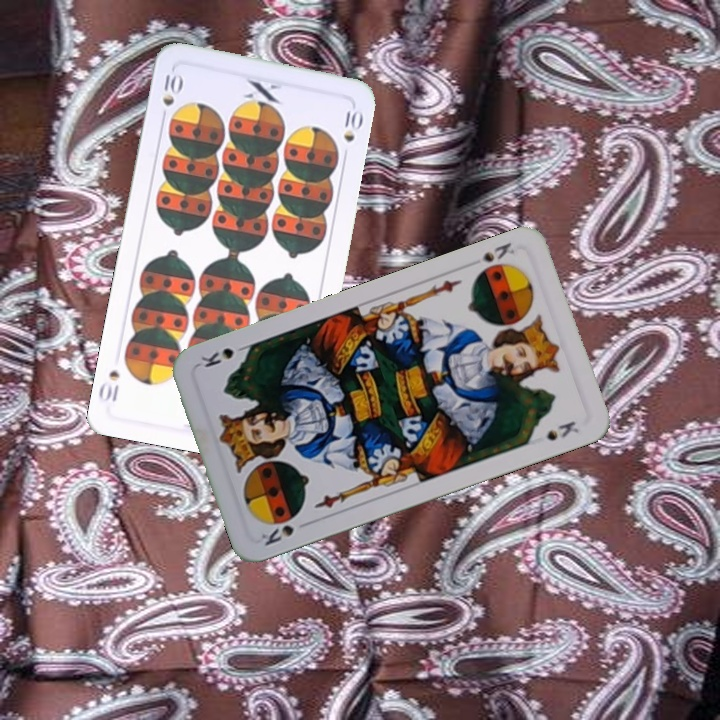S10: (157, 68, 185, 125)
SK: (257, 521, 297, 549), (478, 238, 518, 265)
